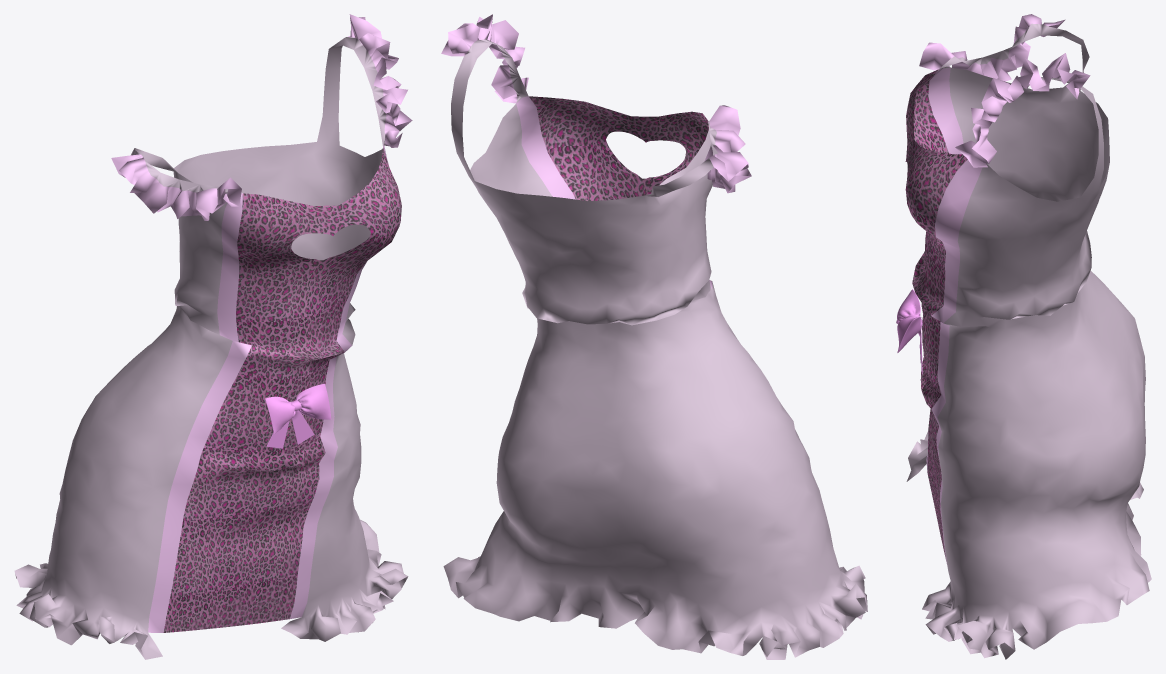
Rendered from asset07.glb.
3 renders of one model, left to right at view 1: azimuth 30°, elevation 25°; view 2: azimuth 150°, elevation 25°; view 3: azimuth 270°, elevation 25°, orthographic. The views are drawn at different scales.
Parts seen in each view (by area): view 1: new_03; view 2: new_03; view 3: new_03.
Boxes of the visible parts, bbox=[...] form: new_03: bbox=[14, 14, 412, 659]; new_03: bbox=[441, 14, 867, 659]; new_03: bbox=[896, 14, 1151, 659].
Size of the model in its own units: 4.6 by 6.75 by 2.55.
Materials: 4 (1 with a texture image).
